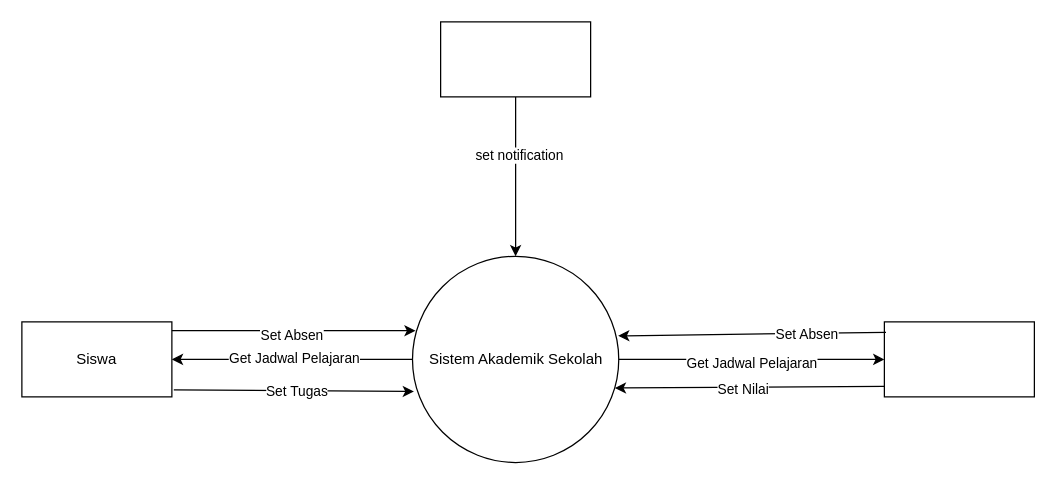
Some shapes in this 1056 by 485 pixel diagram are drawn without their labels. Each missing label, with the box of its shape:
Admin: (439, 21, 591, 97)
Guru: (883, 321, 1034, 397)
